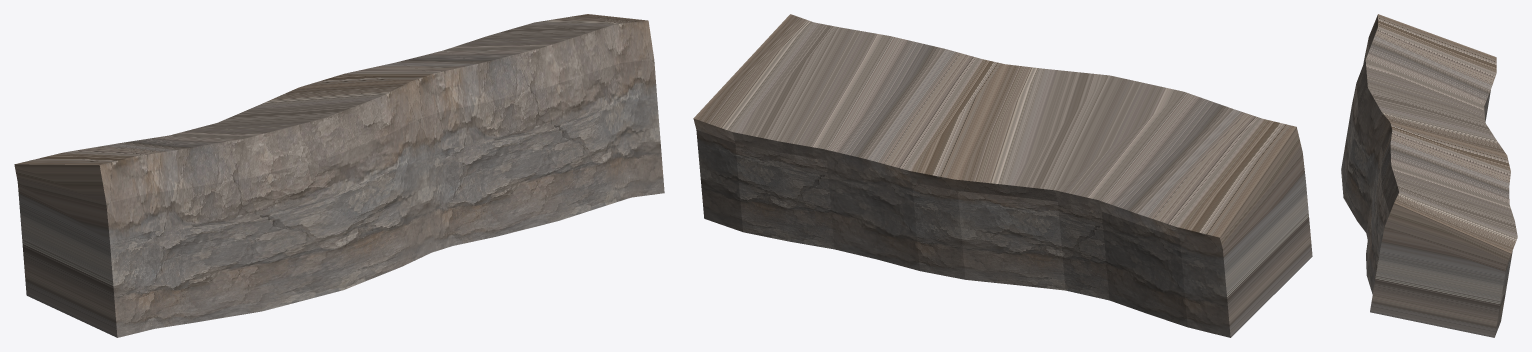
The model's file is cliff-top.glb.
3 views of the same model, side by side, from view 1: azimuth 30°, elevation 25°; view 2: azimuth 150°, elevation 25°; view 3: azimuth 270°, elevation 25° (orthographic). The views are drawn at different scales.
Visible parts, largest first — view 1: cliff-top; view 2: cliff-top; view 3: cliff-top.
Boxes of the visible parts, x1,y1,x2,y2 form: cliff-top: (14, 14, 664, 337); cliff-top: (693, 14, 1312, 337); cliff-top: (1341, 14, 1517, 337).
Bounding box in the file's own units: 4.01 × 1.21 × 1.52.
1 material, 1 textured.
